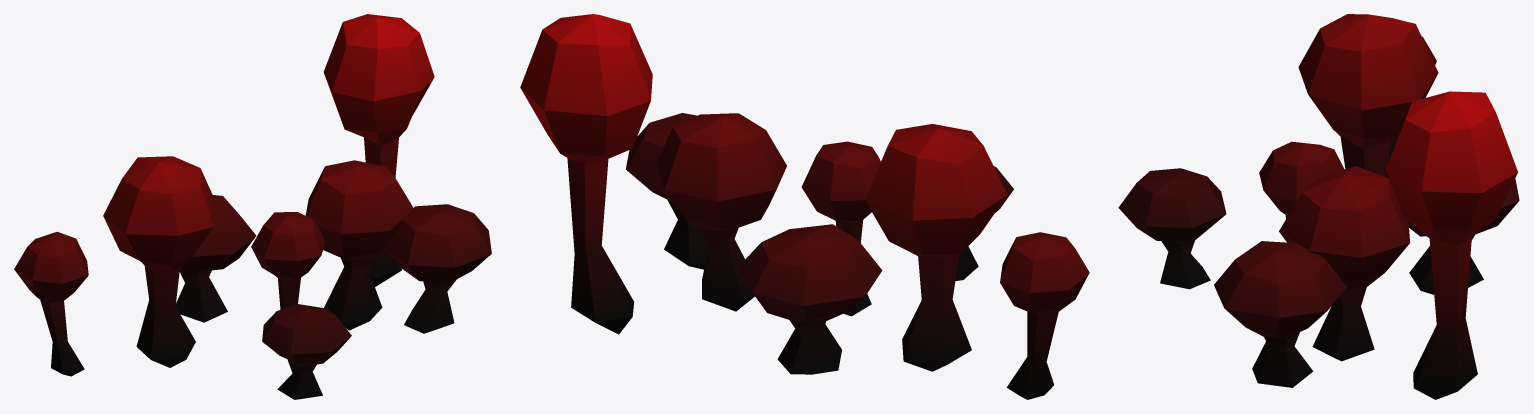
Rendered from SM_Env_Plant_Balloon_Group_02.fbx.
3 views of the same model, side by side, from view 1: azimuth 30°, elevation 25°; view 2: azimuth 150°, elevation 25°; view 3: azimuth 270°, elevation 25° (orthographic). The views are drawn at different scales.
Parts seen in each view (by area): view 1: SM_Env_Plant_Balloon_Group_02; view 2: SM_Env_Plant_Balloon_Group_02; view 3: SM_Env_Plant_Balloon_Group_02.
Boxes of the visible parts, <box> form: SM_Env_Plant_Balloon_Group_02: <box>14,14,491,399</box>; SM_Env_Plant_Balloon_Group_02: <box>520,14,1089,399</box>; SM_Env_Plant_Balloon_Group_02: <box>1118,14,1519,399</box>.
Size of the model in its own units: 136 by 81.41 by 93.24.
